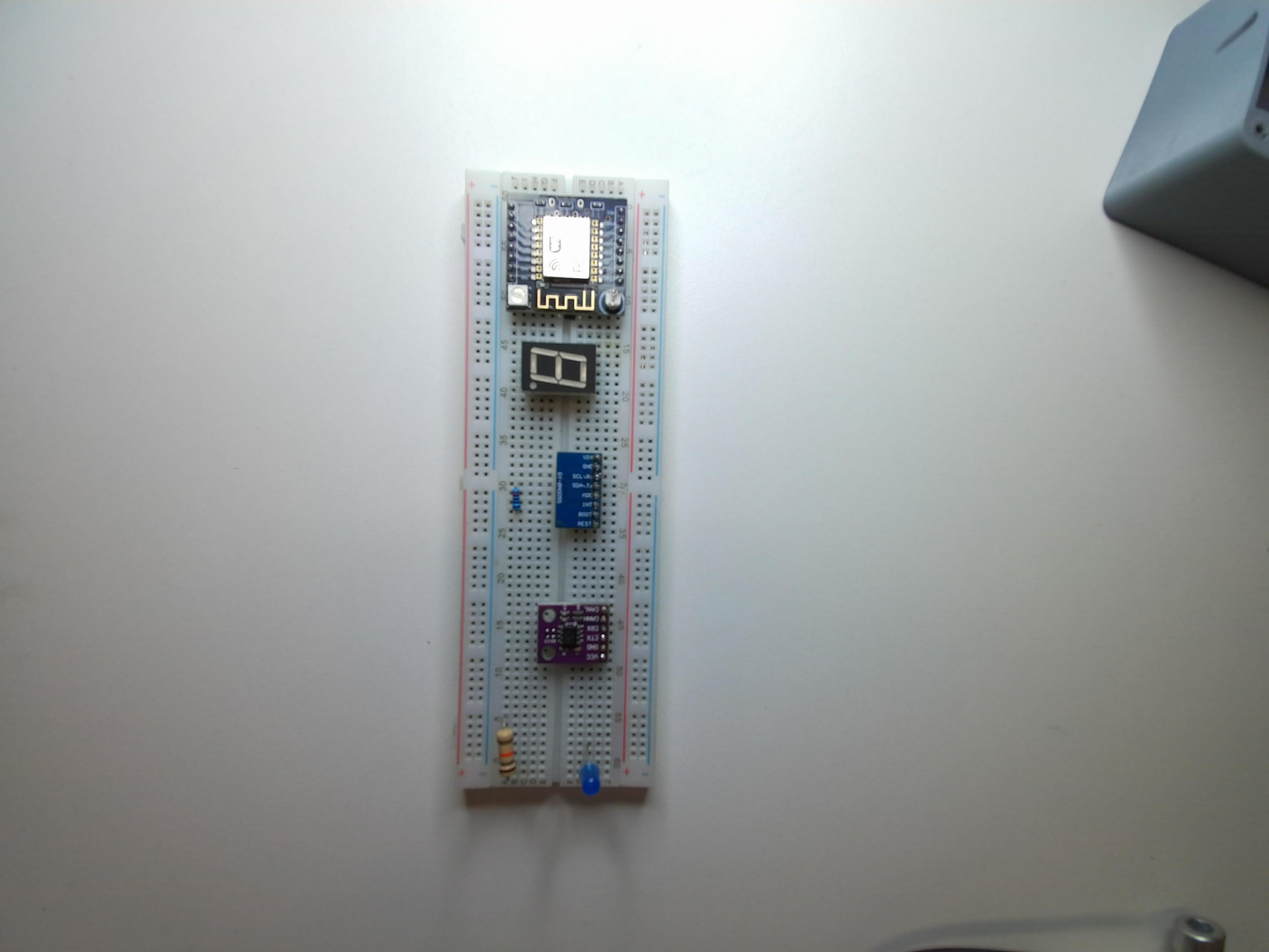base: (452, 161, 676, 813)
blue-board: (553, 448, 607, 533)
blue-led: (573, 758, 605, 797)
digit-board: (522, 340, 598, 401)
esp: (505, 192, 630, 325)
purple-board: (534, 602, 615, 671)
resistor-big: (493, 727, 521, 780)
resistor-small: (510, 485, 521, 517)
